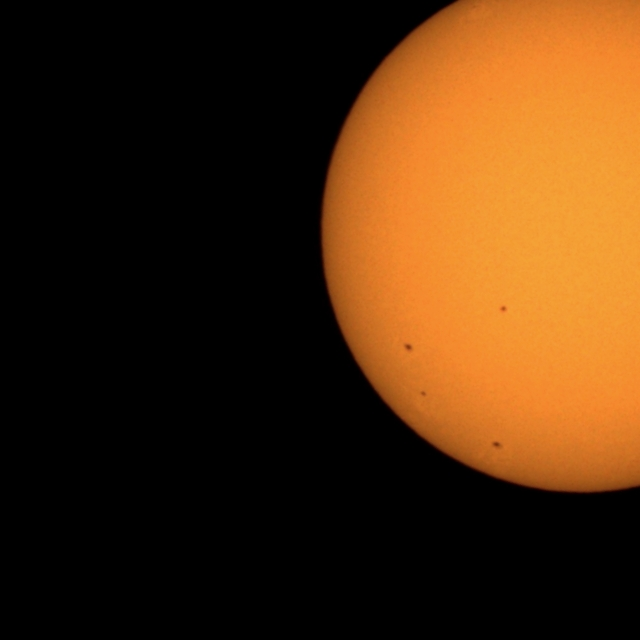sunspot: (491, 440, 504, 450), (403, 342, 414, 353), (499, 304, 508, 314), (419, 390, 427, 398)
